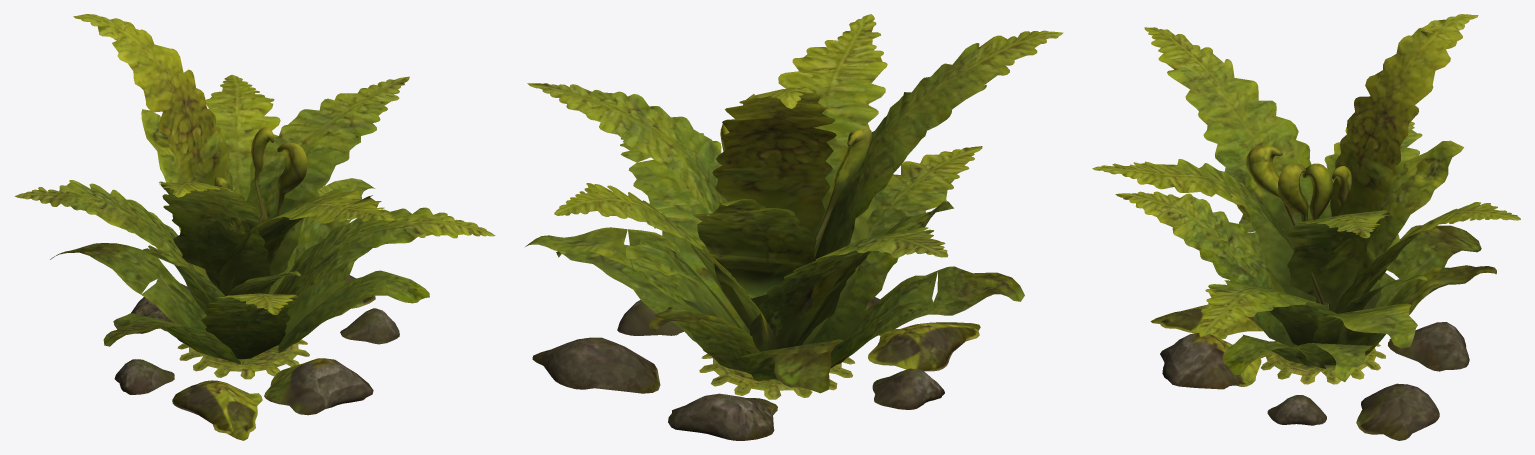
File: fern.glb
3 views of the same model, side by side, from view 1: azimuth 30°, elevation 25°; view 2: azimuth 150°, elevation 25°; view 3: azimuth 270°, elevation 25° (orthographic). The views are drawn at different scales.
Parts seen in each view (by area): view 1: tripo_node_6d204125-ddec-4277-94ce-e6bf7b49eb5c; view 2: tripo_node_6d204125-ddec-4277-94ce-e6bf7b49eb5c; view 3: tripo_node_6d204125-ddec-4277-94ce-e6bf7b49eb5c.
Boxes of the visible parts, x1,y1,x2,y2 form: tripo_node_6d204125-ddec-4277-94ce-e6bf7b49eb5c: (14,14,495,440); tripo_node_6d204125-ddec-4277-94ce-e6bf7b49eb5c: (525,14,1063,440); tripo_node_6d204125-ddec-4277-94ce-e6bf7b49eb5c: (1092,14,1520,440).
Size of the model in its own units: 0.9995 by 0.7788 by 0.9878.
1 material, 1 textured.
